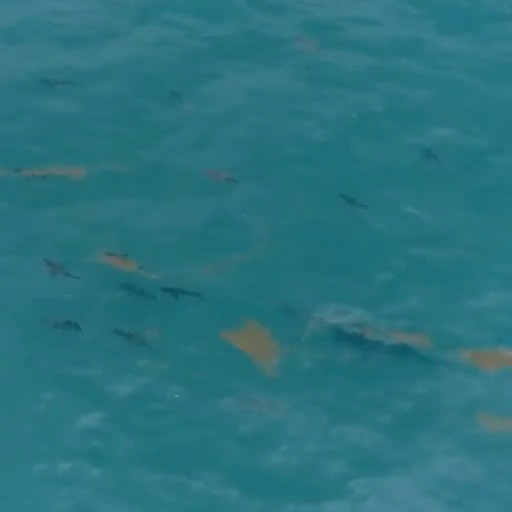shark: (325, 314, 439, 370)
